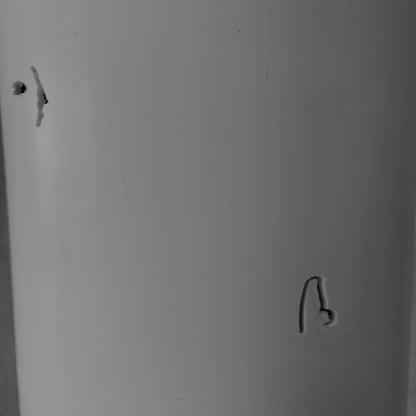fengxi: (293, 271, 342, 337)
kongdong: (31, 62, 60, 132), (4, 78, 33, 98)
